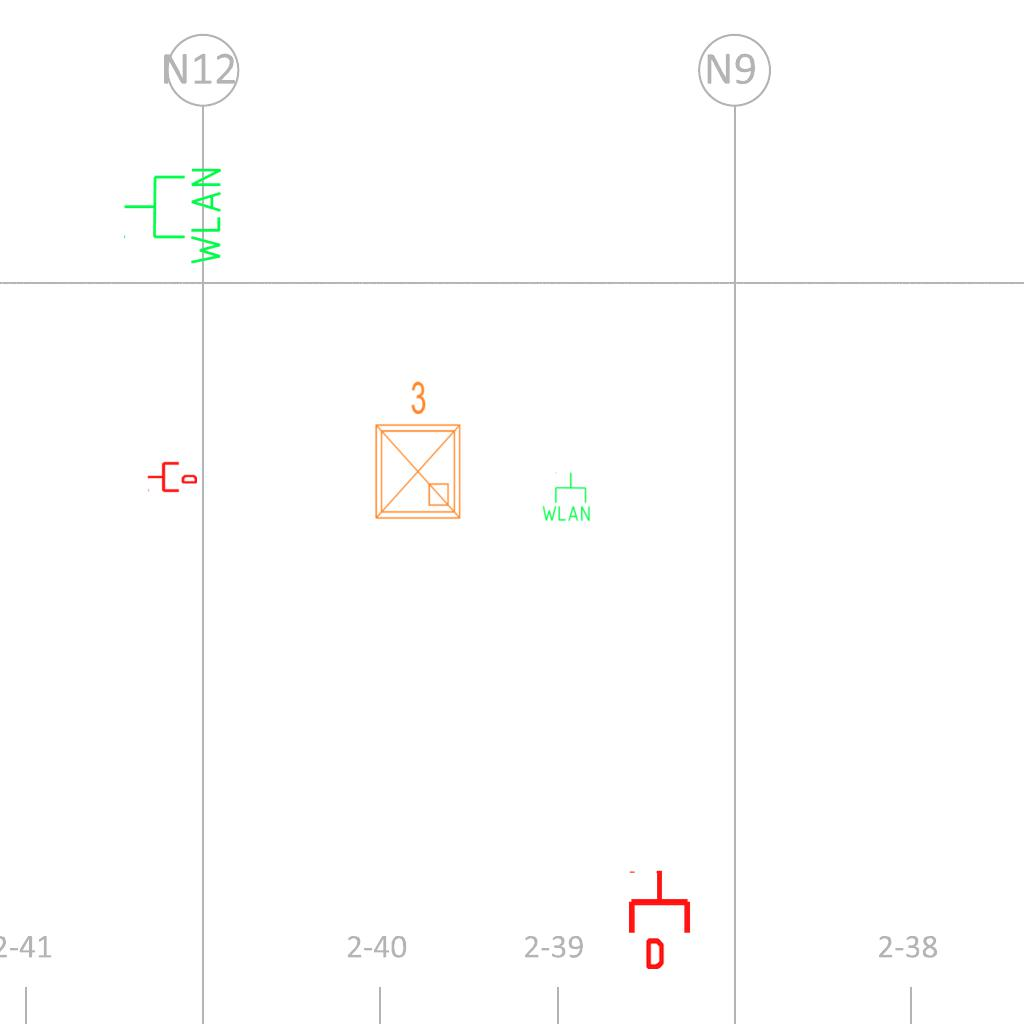Datenanschluss_einfach: (625, 869, 694, 969), (147, 460, 197, 494)
Einbaudownlights_LED_Konferenzraeume: (364, 376, 468, 526)
WLAN: (121, 164, 225, 269), (540, 471, 592, 523)
